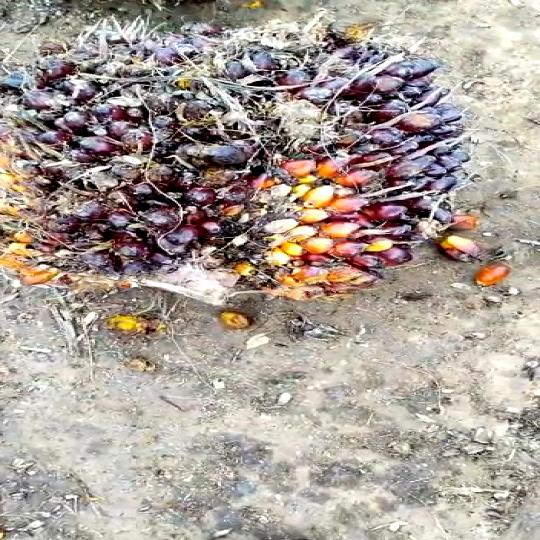mentah: (0, 15, 472, 318)
